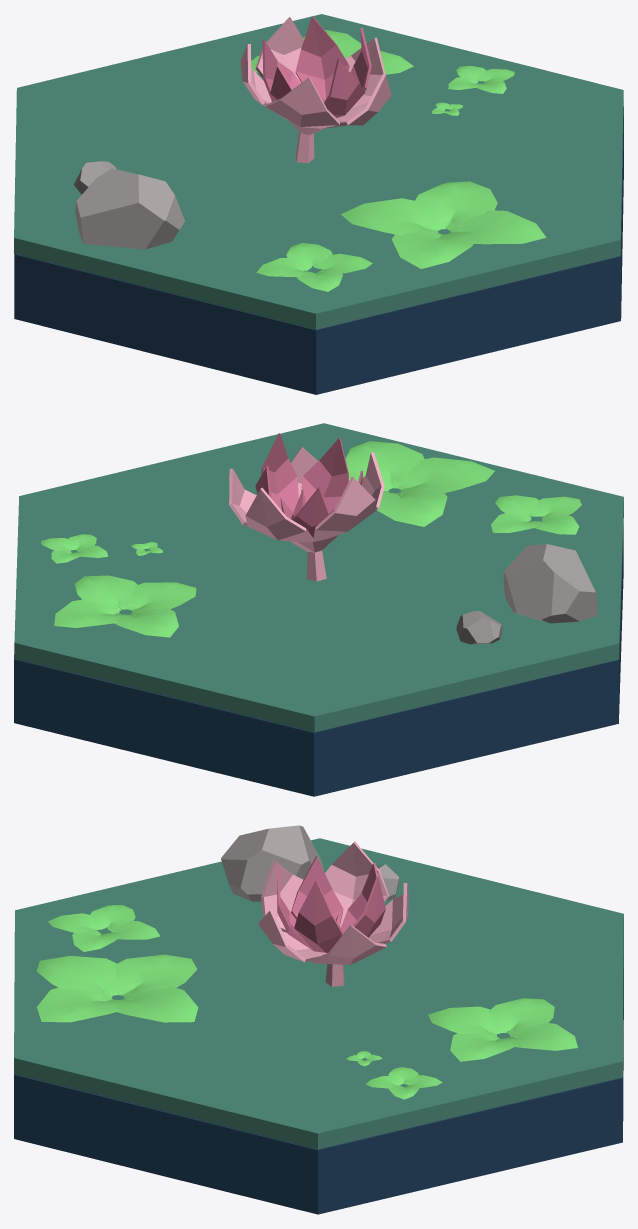
The model's file is Macro - Land Grass.fbx.
3 renders of one model, top to bottom at view 1: azimuth 30°, elevation 25°; view 2: azimuth 150°, elevation 25°; view 3: azimuth 270°, elevation 25°, orthographic.
Parts seen in each view (by area): view 1: Cylinder.001, Cylinder.007, Plane.003, pink_water_lily_2_open.012, Rock Type2 04 mesh.003, pink_water_lily_2_open.001, Plane.004, Plane.001, Plane.011, Rock Type2 04 mesh.013; view 2: Cylinder.001, Cylinder.007, pink_water_lily_2_open.012, Plane.003, Rock Type2 04 mesh.003, Plane.011, pink_water_lily_2_open.001, Plane.004, Plane.001, Rock Type2 04 mesh.013; view 3: Cylinder.001, Cylinder.007, Plane.003, pink_water_lily_2_open.012, Plane.011, pink_water_lily_2_open.001, Rock Type2 04 mesh.003, Plane.004, Plane.001.
Part boxes in pixels (x1=…): Cylinder.001: x1=14, y1=14, x2=623, y2=329; Cylinder.007: x1=14, y1=107, x2=623, y2=394; Plane.003: x1=341, y1=181, x2=546, y2=268; pink_water_lily_2_open.012: x1=240, y1=17, x2=391, y2=163; Rock Type2 04 mesh.003: x1=75, y1=168, x2=184, y2=249; pink_water_lily_2_open.001: x1=262, y1=16, x2=371, y2=117; Plane.004: x1=256, y1=243, x2=372, y2=291; Plane.001: x1=448, y1=65, x2=514, y2=93; Plane.011: x1=251, y1=30, x2=413, y2=74; Rock Type2 04 mesh.013: x1=73, y1=161, x2=116, y2=194; Cylinder.001: x1=14, y1=423, x2=623, y2=732; Cylinder.007: x1=14, y1=528, x2=623, y2=796; pink_water_lily_2_open.012: x1=229, y1=446, x2=384, y2=581; Plane.003: x1=345, y1=441, x2=494, y2=526; Rock Type2 04 mesh.003: x1=503, y1=544, x2=597, y2=623; Plane.011: x1=54, y1=575, x2=196, y2=637; pink_water_lily_2_open.001: x1=255, y1=433, x2=362, y2=537; Plane.004: x1=491, y1=495, x2=581, y2=534; Plane.001: x1=41, y1=534, x2=108, y2=563; Rock Type2 04 mesh.013: x1=456, y1=611, x2=502, y2=644; Cylinder.001: x1=14, y1=838, x2=623, y2=1149; Cylinder.007: x1=14, y1=934, x2=623, y2=1214; Plane.003: x1=36, y1=954, x2=198, y2=1022; pink_water_lily_2_open.012: x1=258, y1=841, x2=408, y2=986; Plane.011: x1=428, y1=998, x2=577, y2=1061; pink_water_lily_2_open.001: x1=277, y1=856, x2=385, y2=952; Rock Type2 04 mesh.003: x1=221, y1=825, x2=323, y2=901; Plane.004: x1=48, y1=905, x2=160, y2=951; Plane.001: x1=365, y1=1067, x2=442, y2=1099.
Bounding box in the file's own units: 198 × 64.64 × 172.
